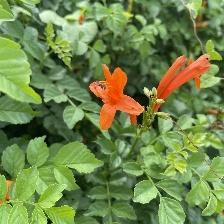honeysuckle: (88, 61, 144, 123)
